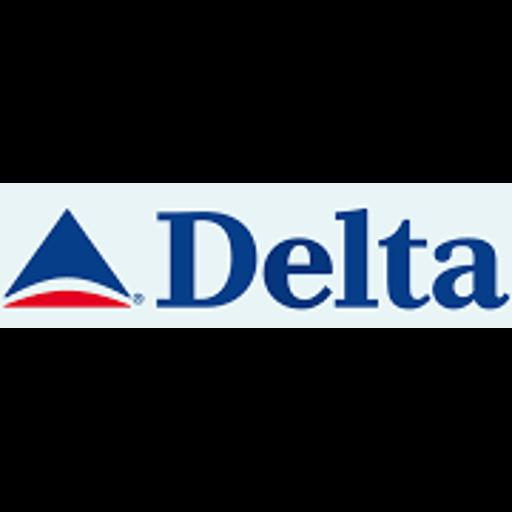Delta Air Lines: (0, 183, 512, 328)
